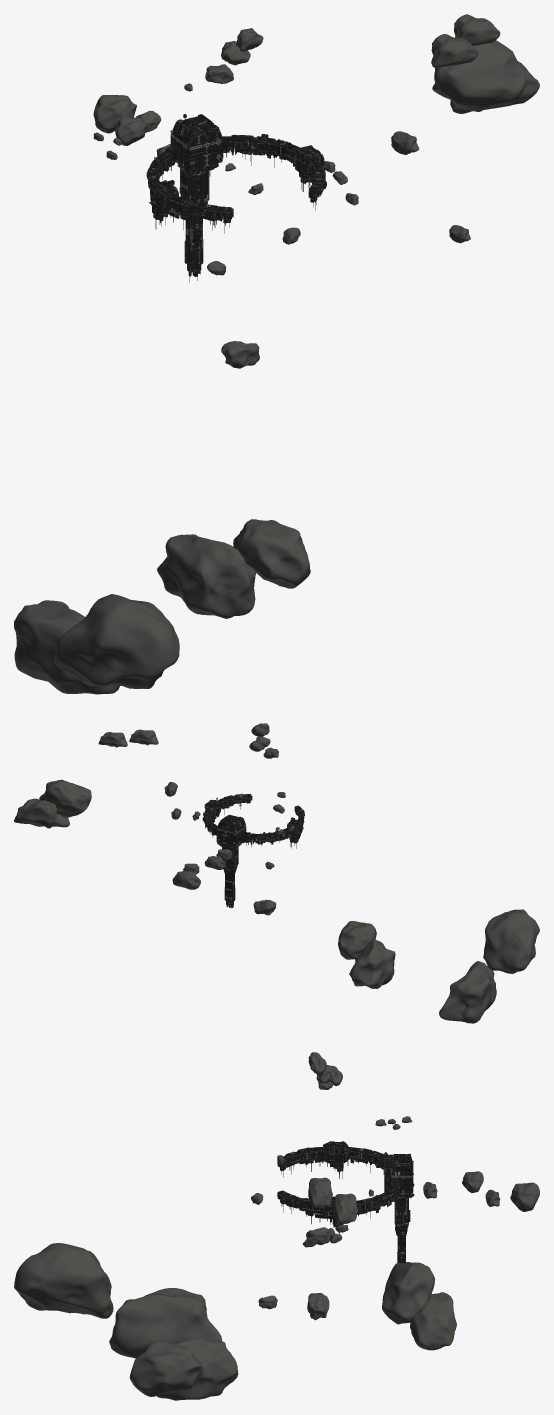
Rendered from station.glb.
3 renders of one model, top to bottom at view 1: azimuth 30°, elevation 25°; view 2: azimuth 150°, elevation 25°; view 3: azimuth 270°, elevation 25°, orthographic. The views are drawn at different scales.
Parts seen in each view (by area): view 1: Asteroids_7, Intersect Object_0, Intersect Object_RCells_1, Intersect Object_RCells.001_2; view 2: Asteroids_7, Intersect Object_0, Intersect Object_RCells_1; view 3: Asteroids_7, Intersect Object_0, Intersect Object_RCells_1, Intersect Object_RCells.001_2.
Boxes of the visible parts, x1,y1,x2,y2 form: Asteroids_7: (14,14,539,694); Intersect Object_0: (147,116,325,266); Intersect Object_RCells_1: (146,114,326,265); Intersect Object_RCells.001_2: (152,148,321,272); Asteroids_7: (14,723,539,1023); Intersect Object_0: (203,794,304,902); Intersect Object_RCells_1: (203,793,304,901); Asteroids_7: (14,1052,539,1400); Intersect Object_0: (277,1141,413,1263); Intersect Object_RCells_1: (277,1142,414,1263); Intersect Object_RCells.001_2: (280,1157,399,1224).
Size of the model in its own units: 18.78 by 13.46 by 15.73.
2 materials, 1 textured.
